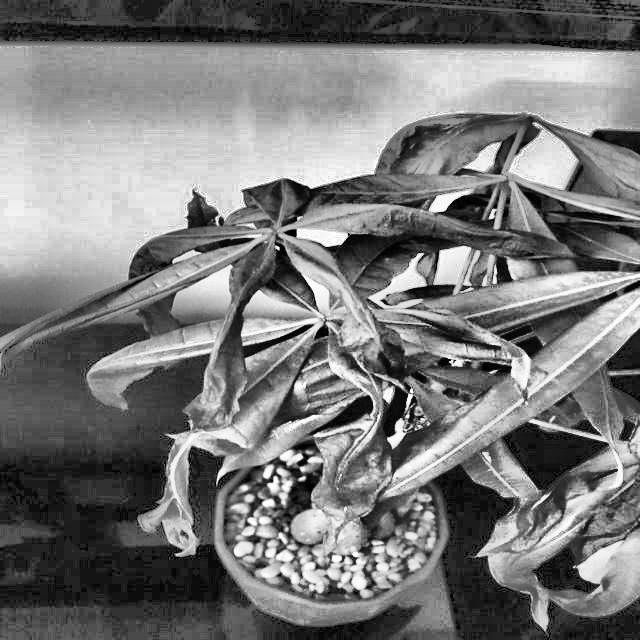plants: (58, 162, 537, 631)
